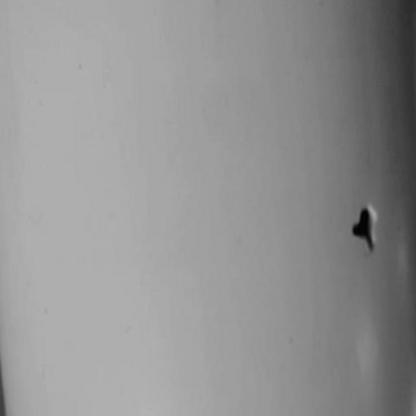kongdong: (341, 190, 380, 260)
